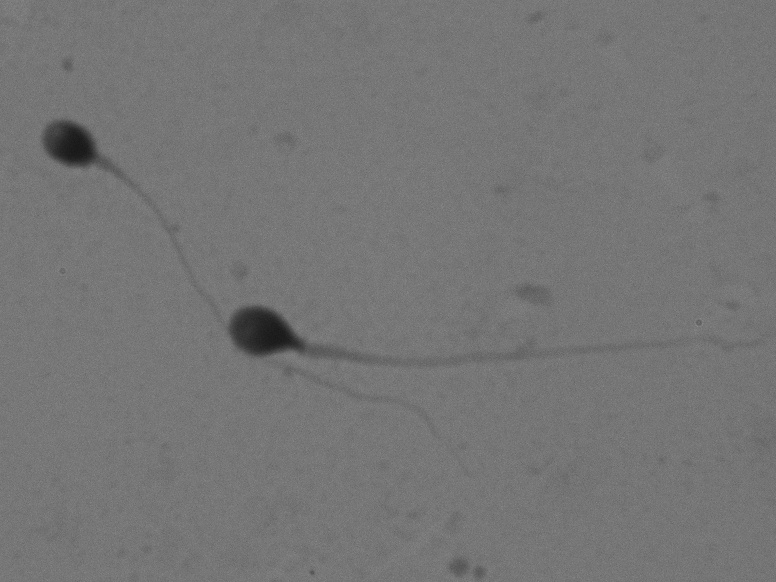Abnormal: (222, 277, 771, 396)
Normal: (17, 91, 510, 511)
